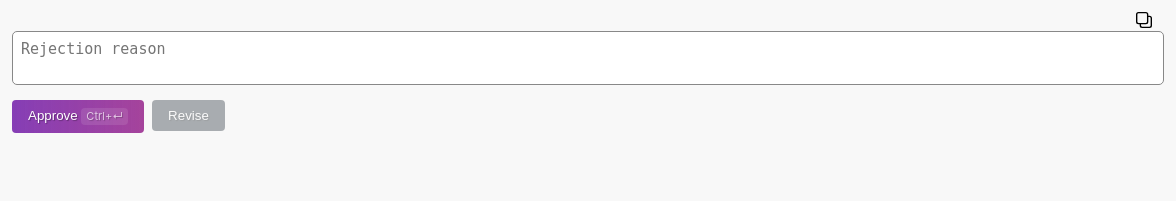
UserRequest › displays network error message when fetch fails
The image size is (1176, 201).
Click approve button
Click the button with class "cta-button-color" at (78, 116), box [12,100,144,133]
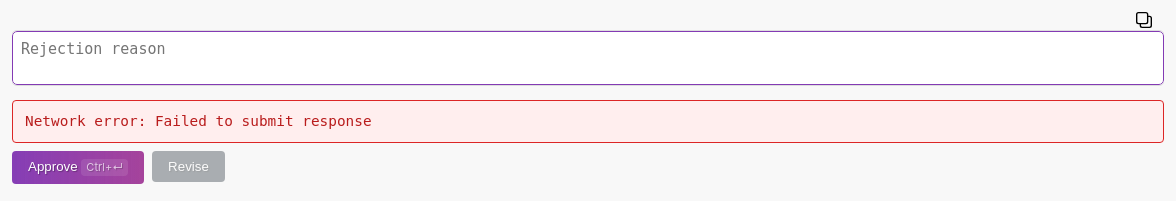
Now the text "Network error: Failed to submit response" is shown, box [12,100,1164,143]
Now the text with class "error-message" reads "Network error: Failed to submit response", box [25,113,372,129]
